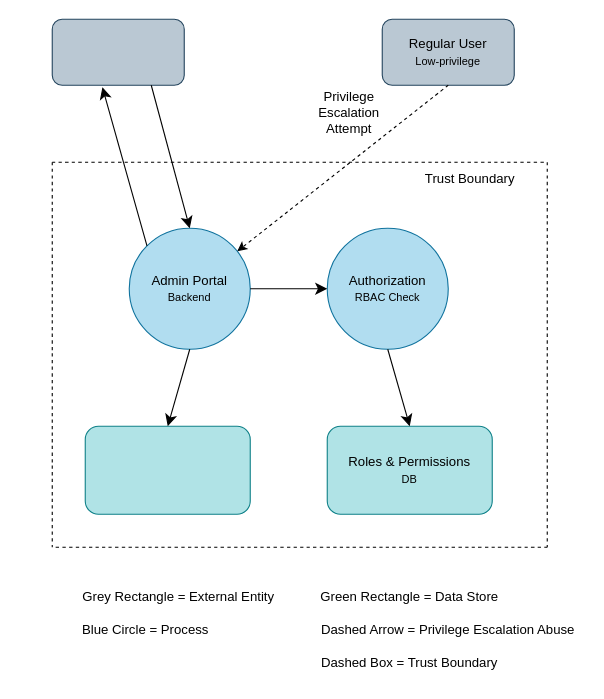
Some shapes in this 604 by 699 pixel diagram are drawn without their labels. The shapes that lost their labels are listed below. From the top down, each one's centre as x and y in pixels, then its label:
At pixel 117 51: "Admin User Admin Privilege".
At pixel 167 469: "Audit Log Store".
